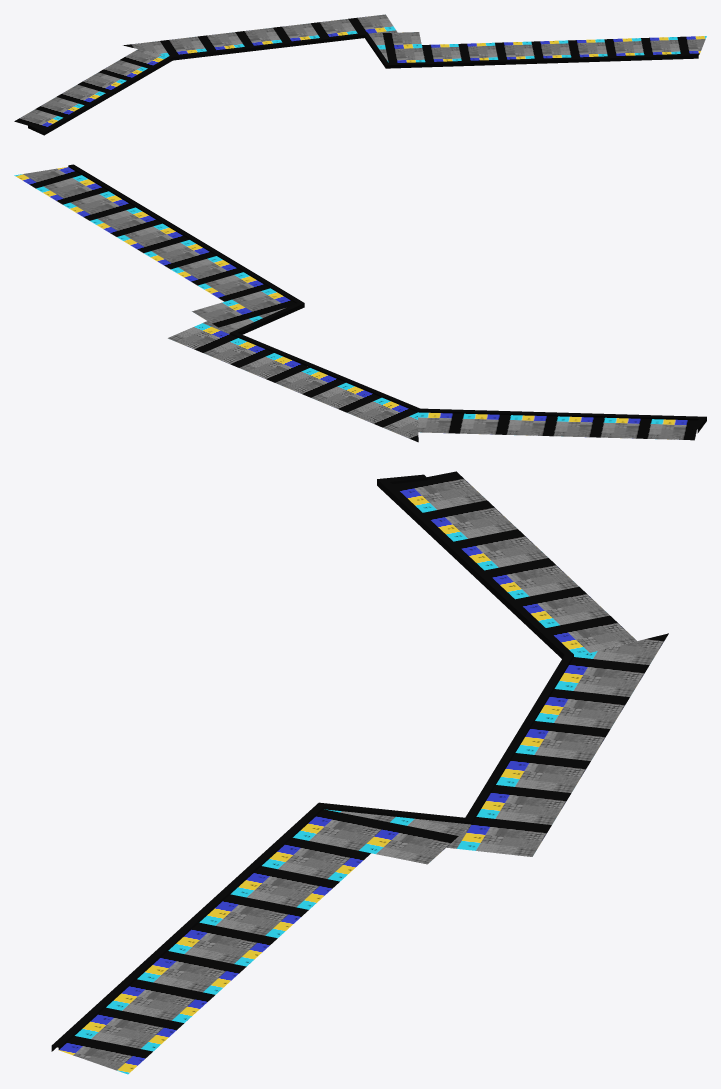
Rendered from chinatown_sidewalk_7.fbx.
The picture shows the model from 3 angles, top to bottom: view 1: azimuth 30°, elevation 25°; view 2: azimuth 150°, elevation 25°; view 3: azimuth 270°, elevation 25°; orthographic projection. The views are drawn at different scales.
Visible parts, largest first — view 1: chinatown_curb_7, curb_tiles_001, curb_tiles_002; view 2: chinatown_curb_7, curb_tiles_001, curb_tiles_002; view 3: chinatown_curb_7, curb_tiles_001, curb_tiles_002.
Part boxes in pixels (x1,y1,x2,y2): chinatown_curb_7: [28, 32, 706, 135]; curb_tiles_001: [123, 14, 397, 56]; curb_tiles_002: [14, 49, 168, 128]; chinatown_curb_7: [14, 164, 706, 433]; curb_tiles_001: [168, 321, 418, 442]; curb_tiles_002: [418, 412, 697, 440]; chinatown_curb_7: [51, 474, 573, 1074]; curb_tiles_001: [446, 633, 668, 856]; curb_tiles_002: [392, 471, 636, 656].
Size of the model in its own units: 2888 by 30.5 by 1264.
